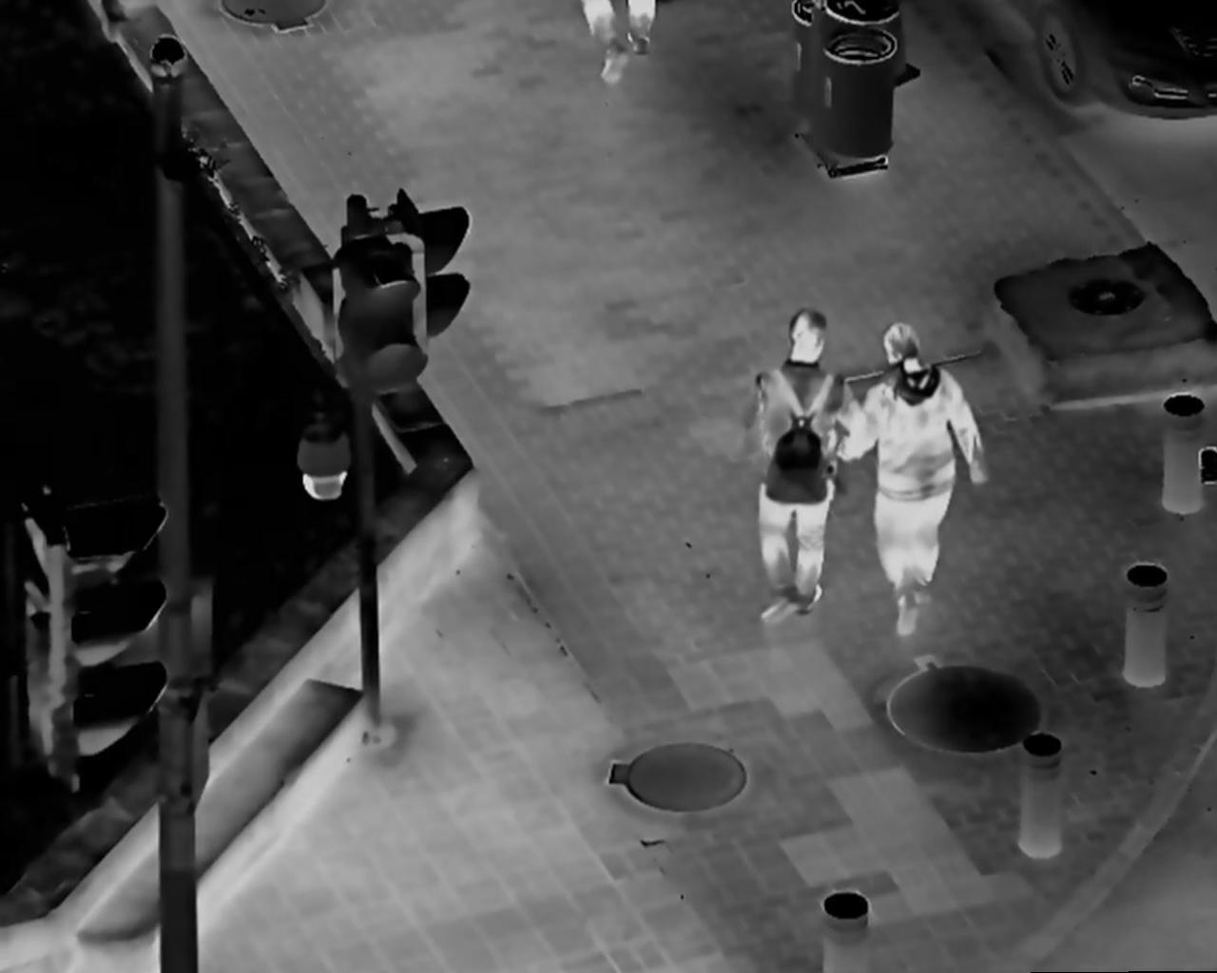person: (841, 318, 993, 646), (740, 303, 855, 621)
